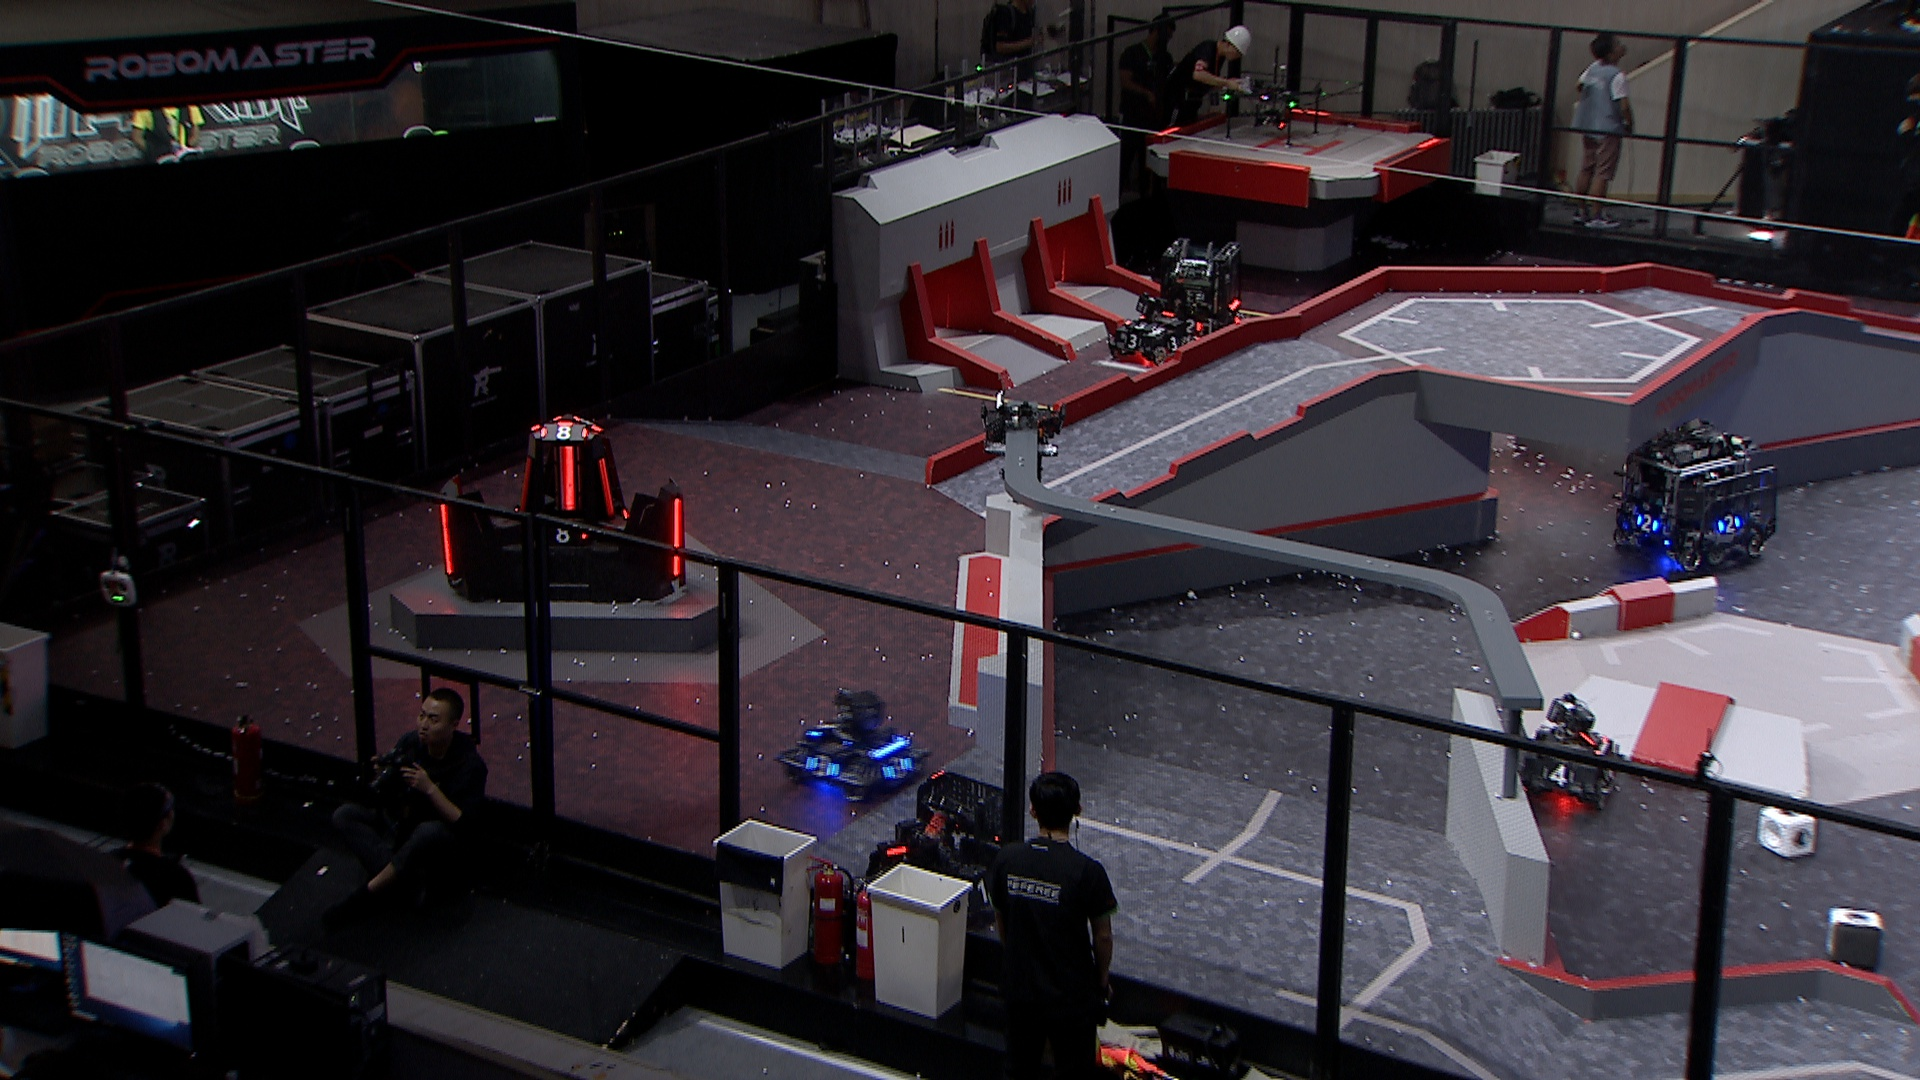armor: (666, 498, 688, 576), (555, 442, 576, 517), (436, 500, 455, 575), (535, 419, 589, 443), (595, 458, 615, 517), (882, 752, 916, 783), (803, 754, 845, 779), (516, 455, 534, 512), (806, 713, 841, 742), (550, 522, 589, 545), (1543, 761, 1575, 789), (969, 873, 996, 906), (1636, 510, 1660, 535), (1126, 318, 1159, 335), (1716, 513, 1742, 534), (1179, 315, 1204, 335), (1120, 332, 1145, 352), (1163, 334, 1187, 353), (1600, 764, 1619, 785)
base: (429, 409, 690, 607)
car: (1609, 415, 1780, 576), (861, 767, 1015, 928), (771, 683, 934, 800), (1513, 690, 1629, 812), (1149, 237, 1247, 349), (1109, 289, 1200, 368)
watcher: (982, 386, 1068, 488)
